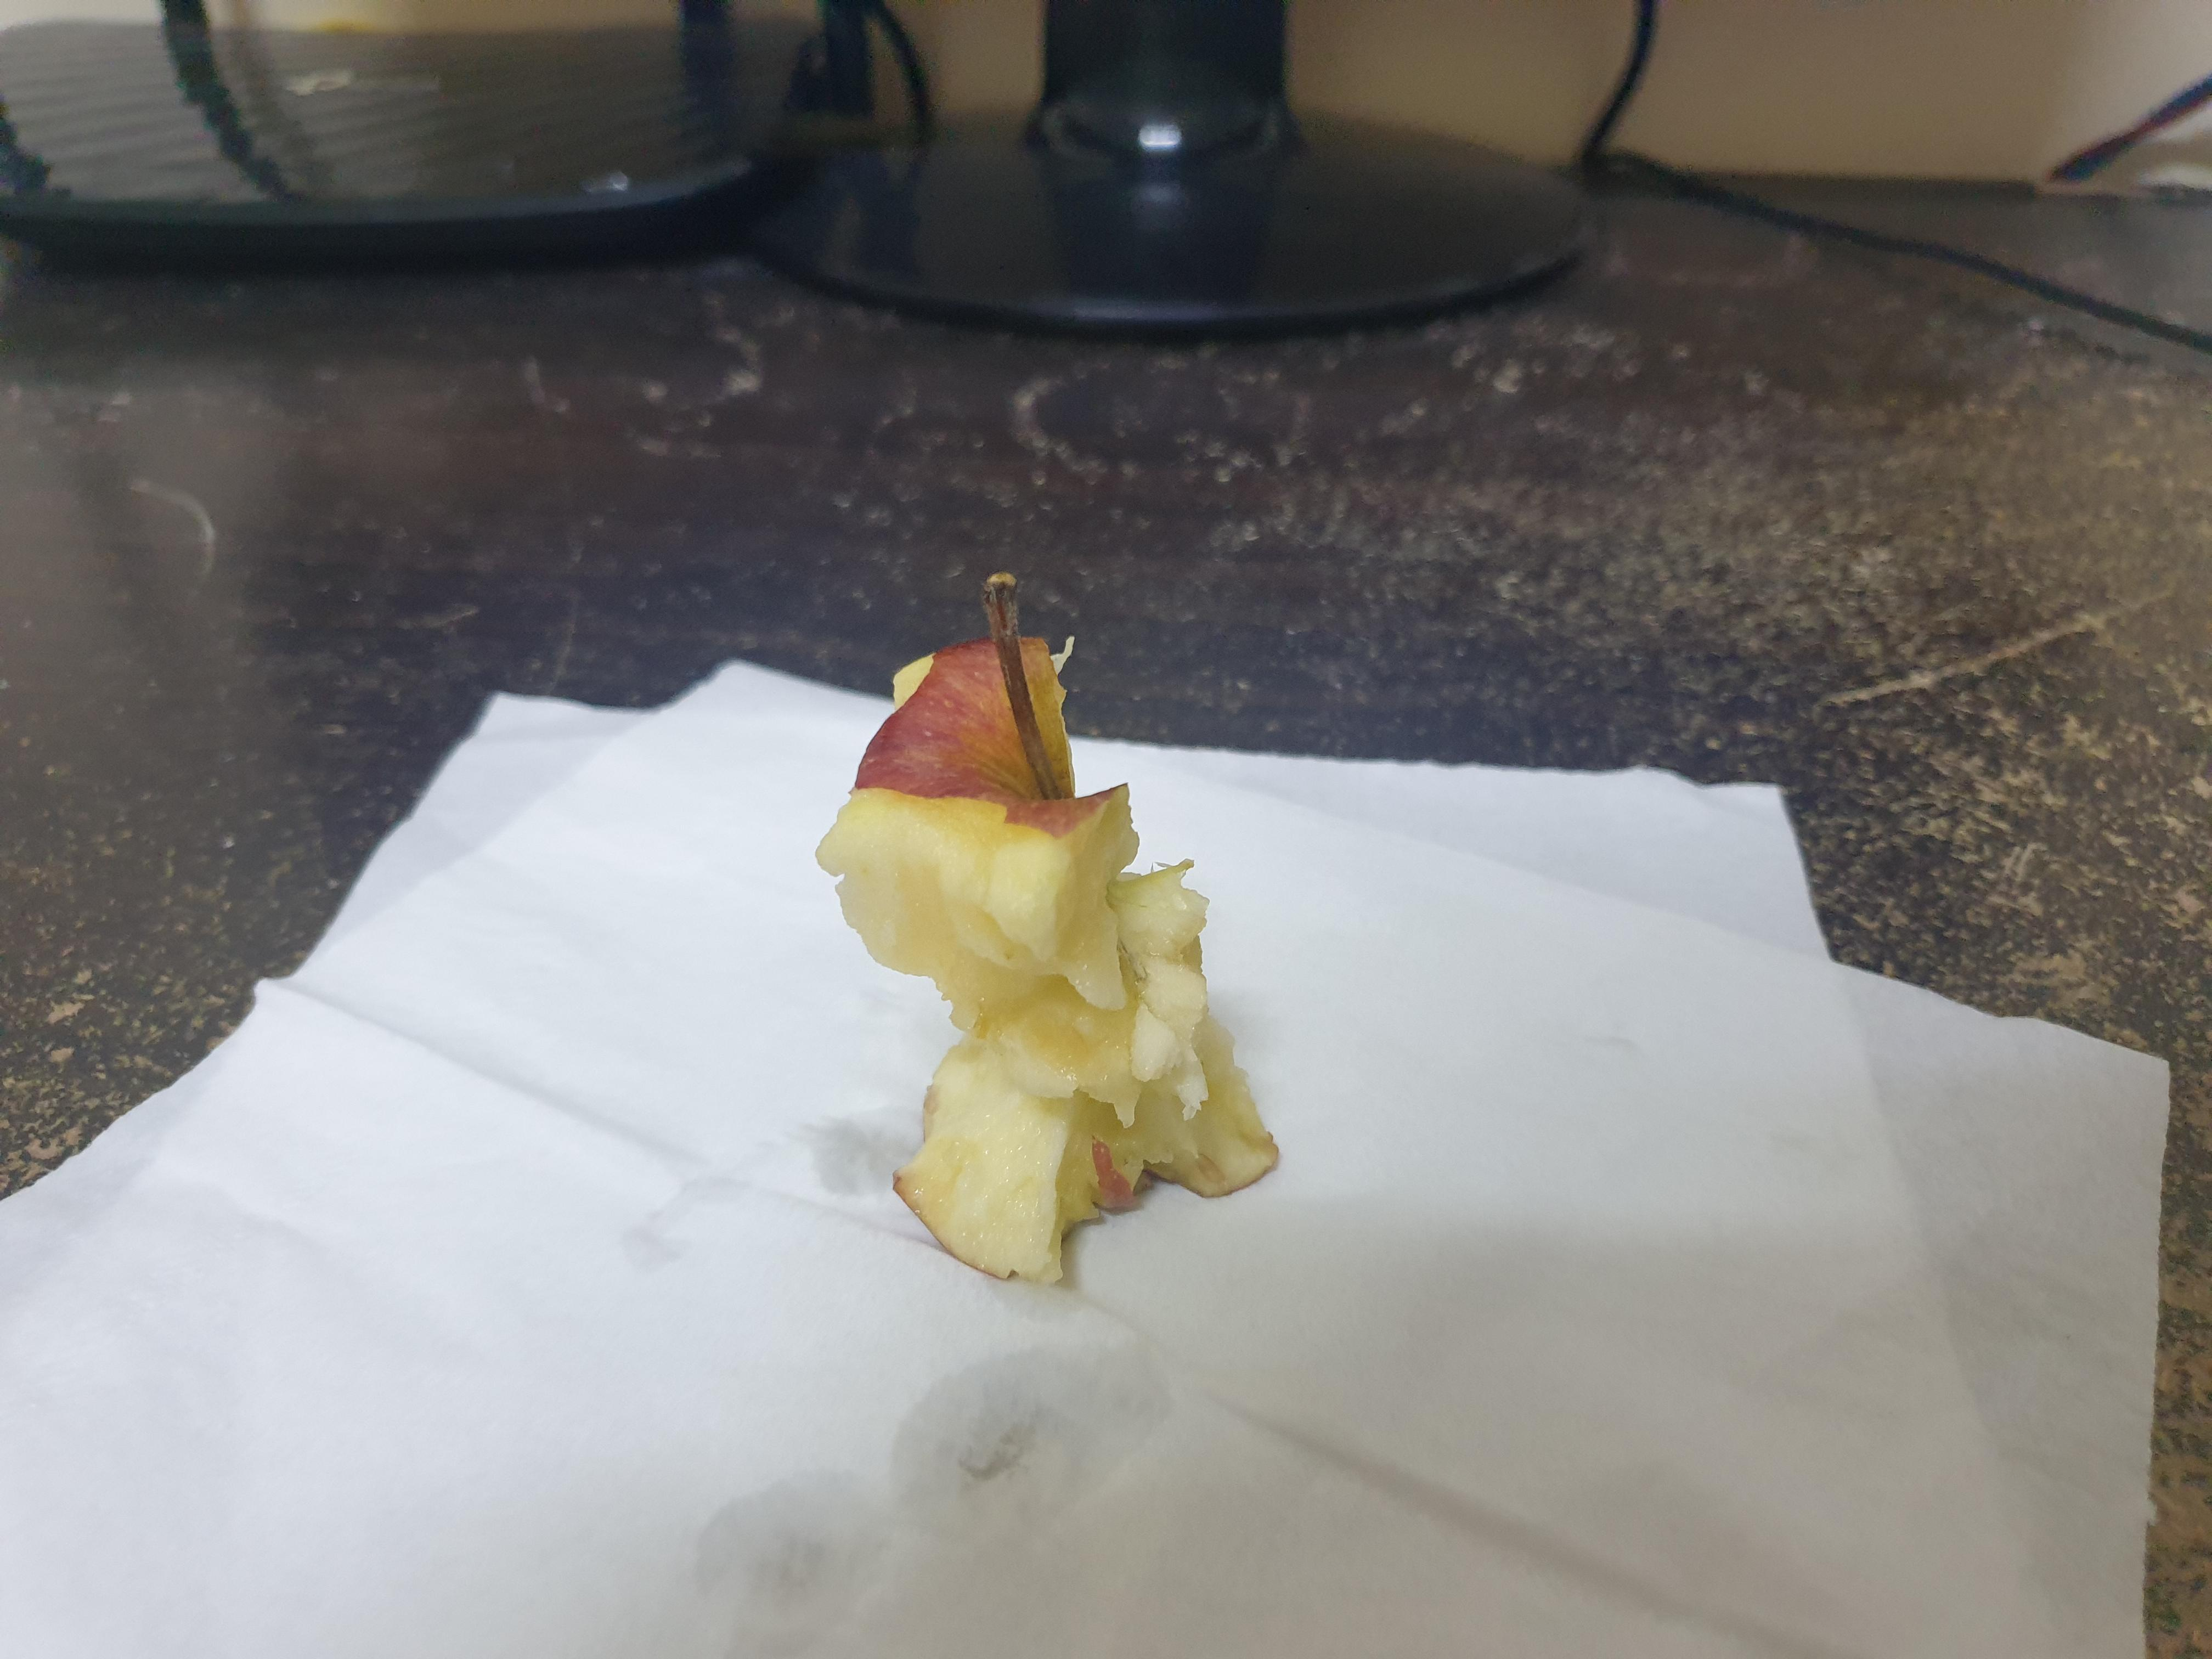Apple: (805, 552, 1286, 1321)
